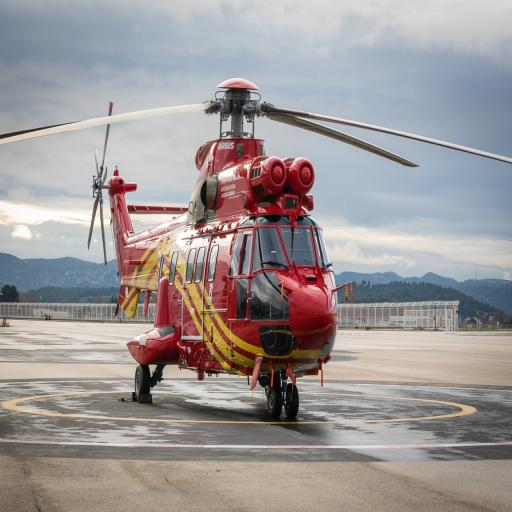helicopter: (1, 78, 512, 417)
